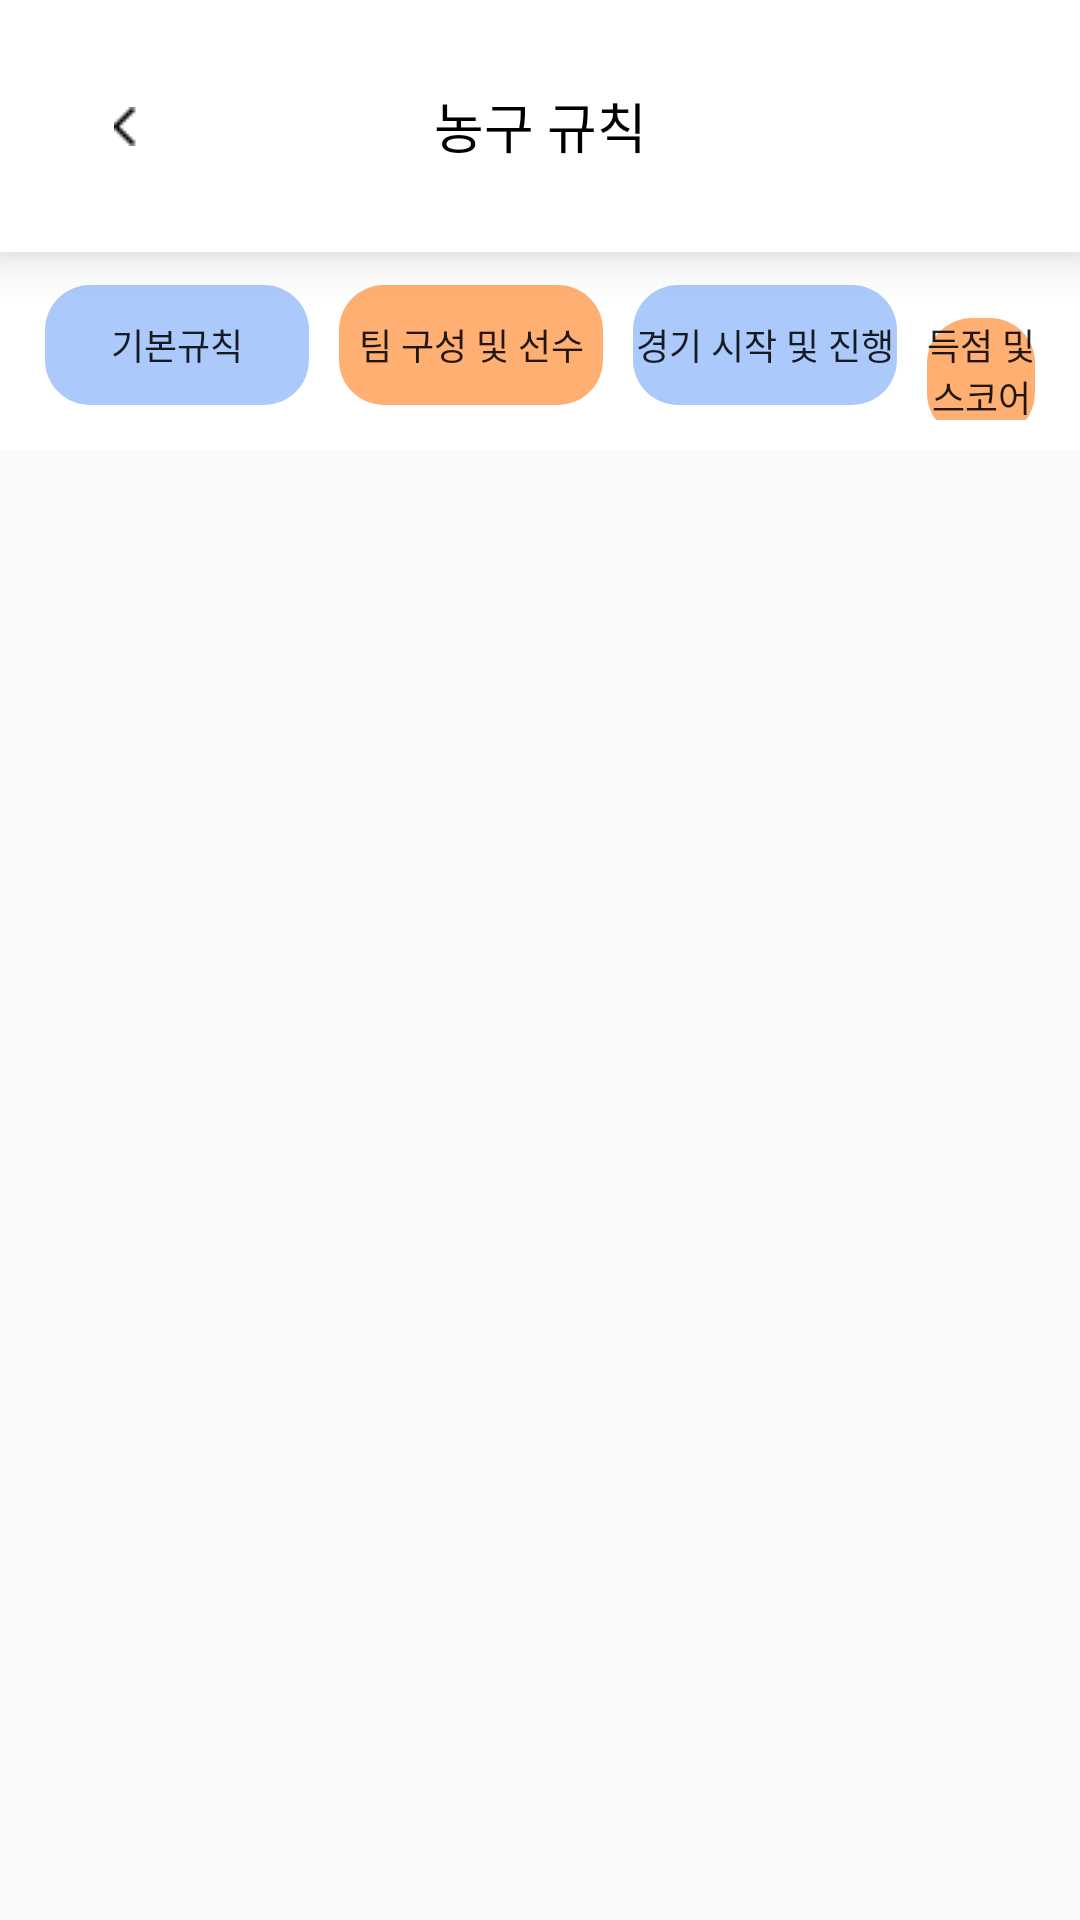

Where to tap for icons on this 1080w x 1920h app screen, as point (x, y):
backbutton: point (125, 126)
